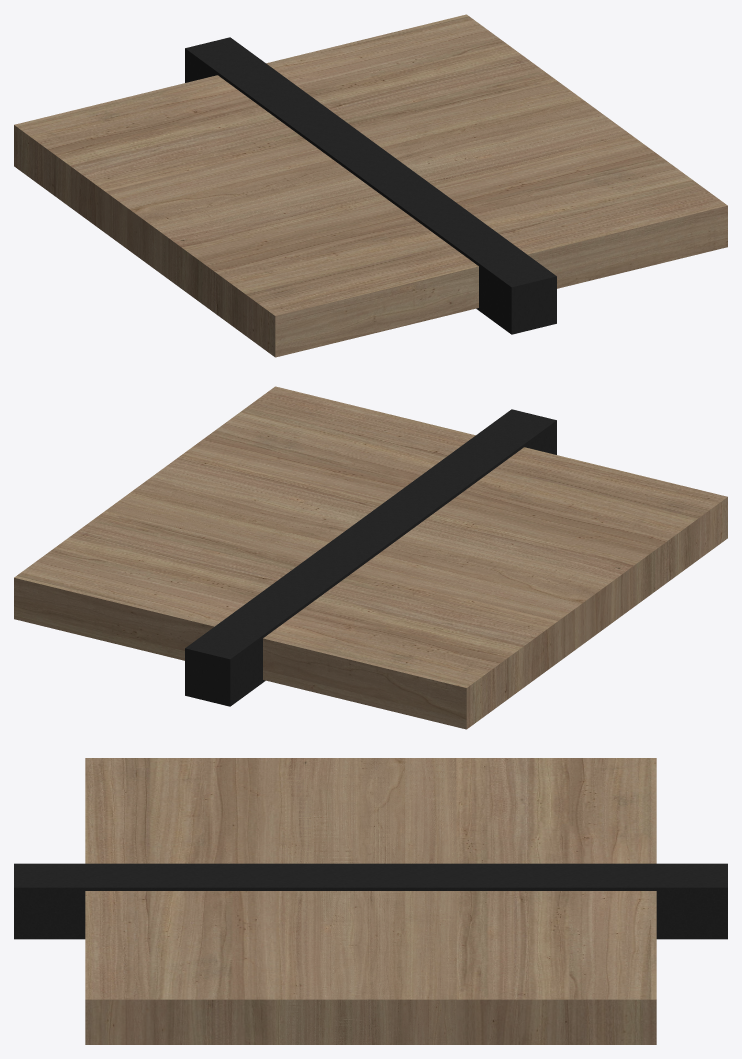
File: step.glb
The picture shows the model from 3 angles, top to bottom: view 1: azimuth 30°, elevation 25°; view 2: azimuth 150°, elevation 25°; view 3: azimuth 270°, elevation 25°; orthographic projection. The views are drawn at different scales.
Visible parts, largest first — view 1: landing, step, stringer; view 2: landing, step, stringer; view 3: landing, step, stringer.
Part boxes in pixels (left/top/right/bottom): landing: left=14, top=14, right=727, bottom=357; step: left=105, top=81, right=636, bottom=281; stringer: left=185, top=37, right=556, bottom=334; landing: left=14, top=386, right=727, bottom=729; step: left=105, top=453, right=636, bottom=661; stringer: left=185, top=409, right=556, bottom=706; landing: left=85, top=758, right=656, bottom=1044; step: left=285, top=758, right=456, bottom=1044; stringer: left=14, top=863, right=727, bottom=939.
Size of the model in its own units: 0.8 by 0.2381 by 1.
2 materials, 2 textured.
